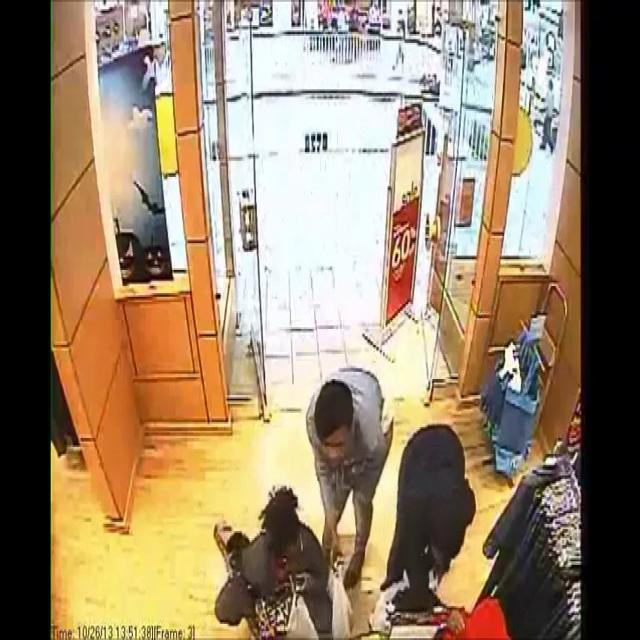Product: (250, 558, 284, 638)
normal: (298, 361, 393, 516)
shoplifting: (202, 438, 339, 640), (372, 426, 489, 640)
